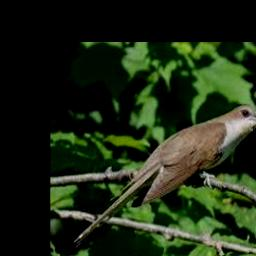Cuckoo: (73, 104, 256, 248)
